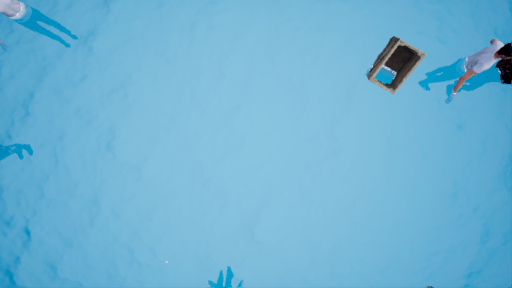person: (431, 38, 512, 101)
